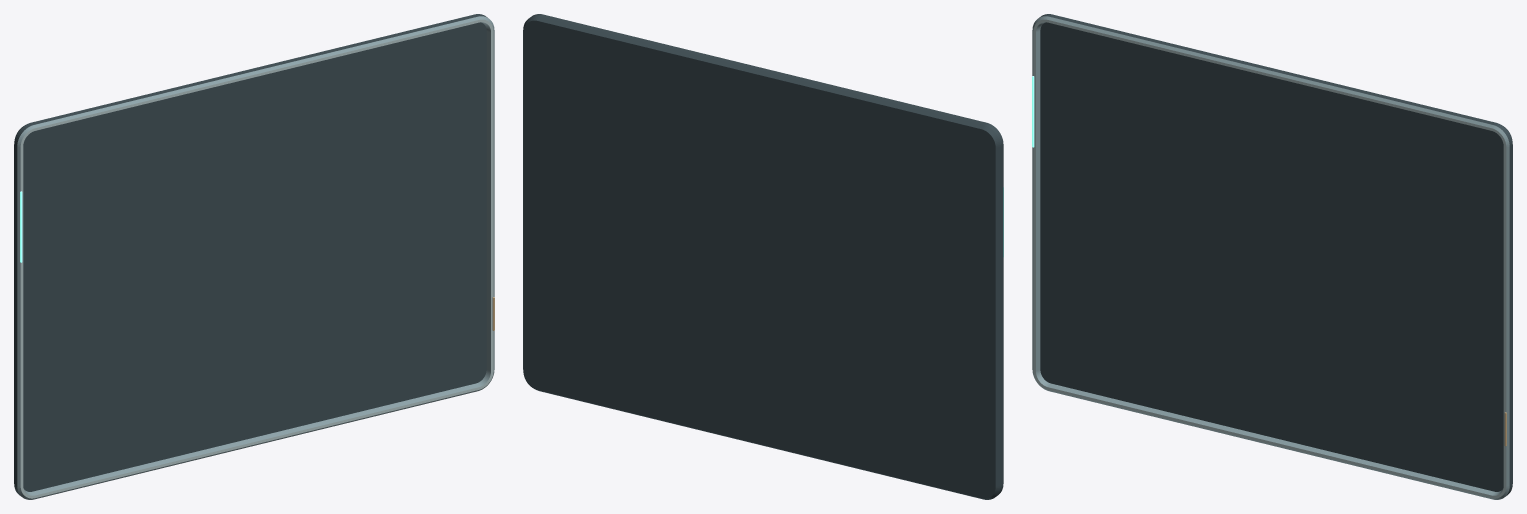
The model's file is studio_info_frame.glb.
The picture shows the model from 3 angles, left to right: view 1: azimuth 30°, elevation 25°; view 2: azimuth 150°, elevation 25°; view 3: azimuth 330°, elevation 25°; orthographic projection.
Visible parts, largest first — view 1: studio_info_frame; view 2: studio_info_frame; view 3: studio_info_frame.
Boxes of the visible parts, bbox=[...] form: studio_info_frame: bbox=[14, 14, 494, 499]; studio_info_frame: bbox=[523, 14, 1003, 499]; studio_info_frame: bbox=[1032, 14, 1512, 499].
Bounding box in the file's own units: 2.4 × 1.8 × 0.064.
